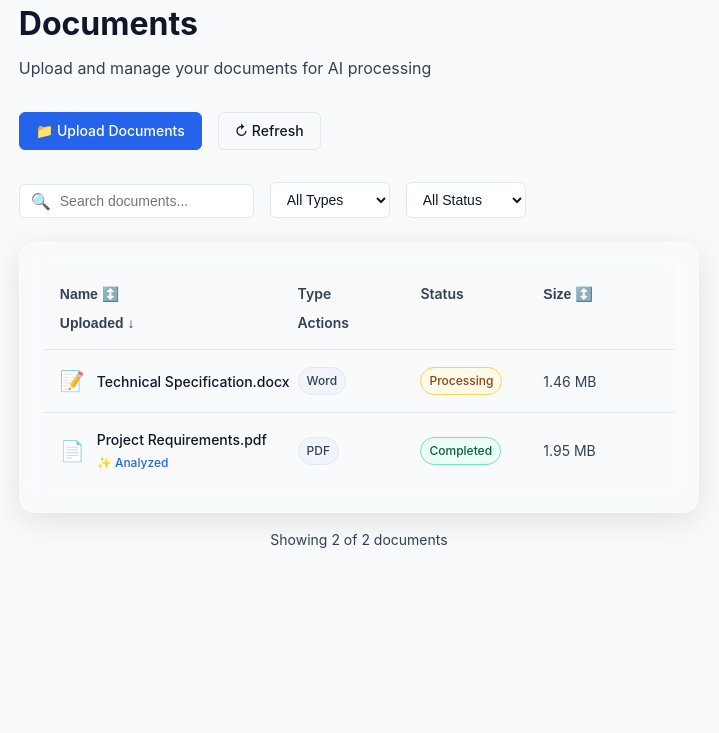
Scenario: Documents Integration › shows upload progress when files are uploading
# Open upload interface
Click the button "📁 Upload Documents". click: (110, 131)
box: left=19, top=112, right=202, bottom=150
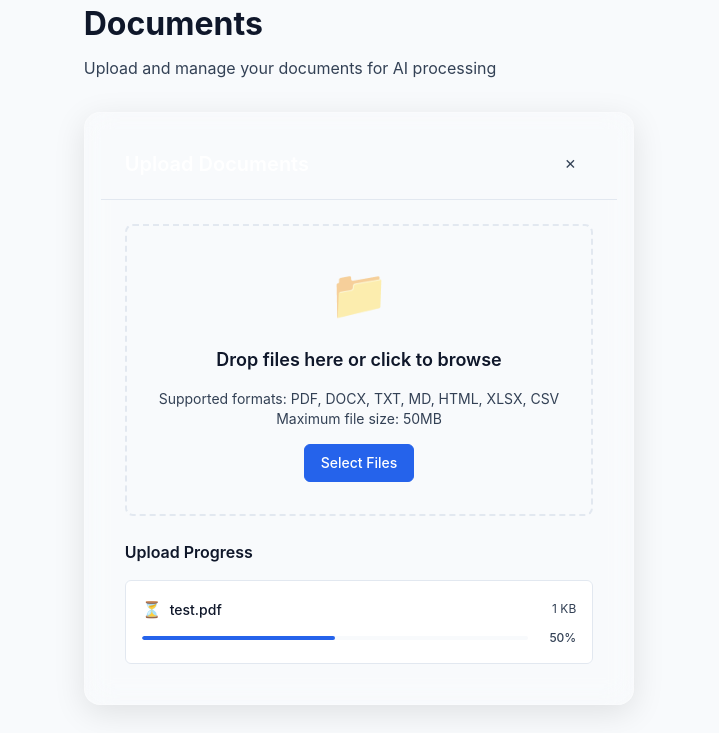
Expected: the heading "Upload Progress" is shown, left=125, top=542, right=253, bottom=562
Expected: the text "test.pdf" is shown, left=170, top=601, right=222, bottom=618
Expected: the text "50%" is shown, left=549, top=630, right=576, bottom=645
